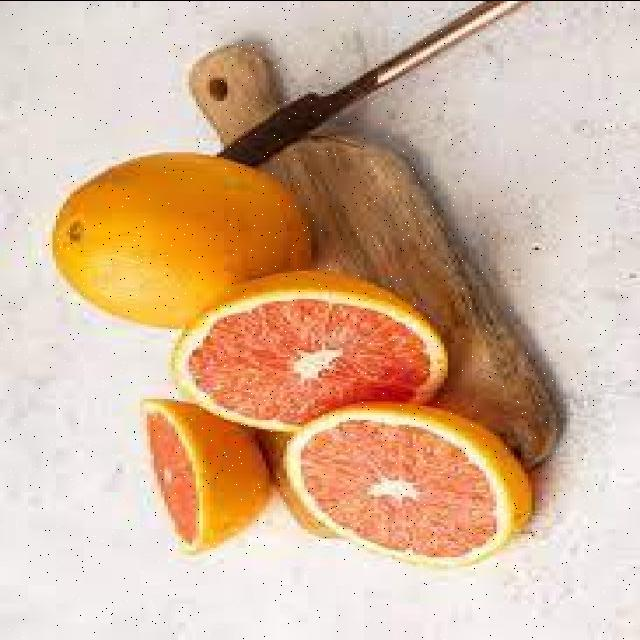Orange: (49, 150, 313, 329), (168, 268, 448, 433), (276, 401, 534, 568), (138, 398, 272, 555)
